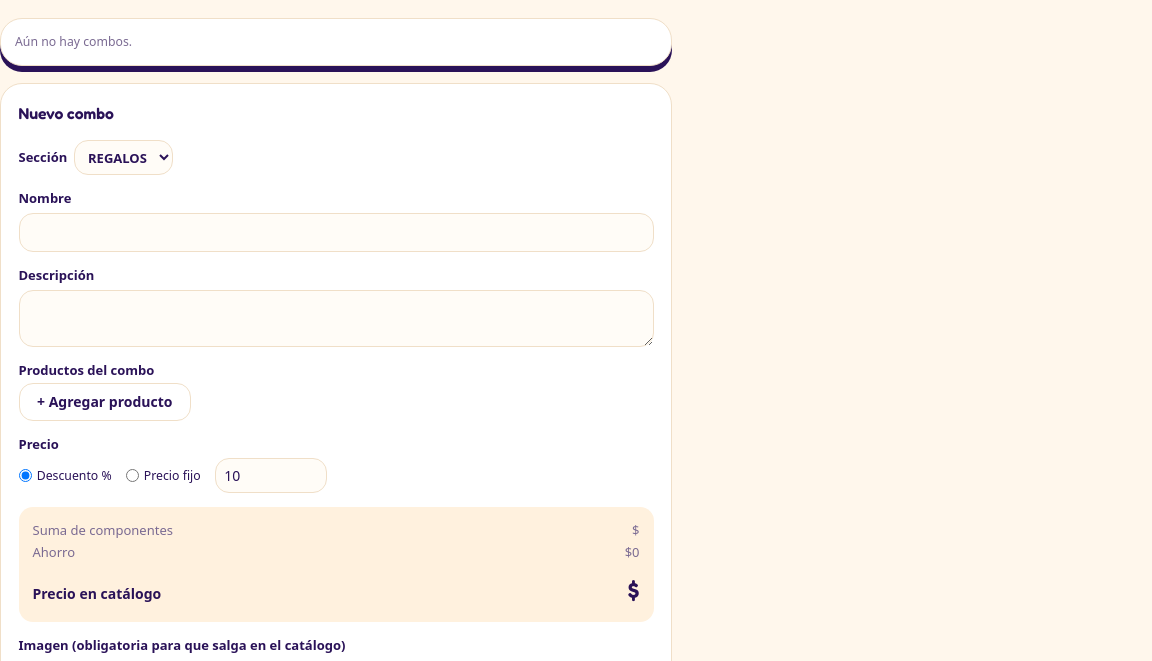
Scenario: Combos: aviso de componentes agotados › con varios agotados los nombra a todos, en plural
expect the heading "Nuevo combo" is shown: met, box [18,104,114,123]
Step 1. Click the button "+ Agregar producto" → (105, 402), box [18,383,191,421]
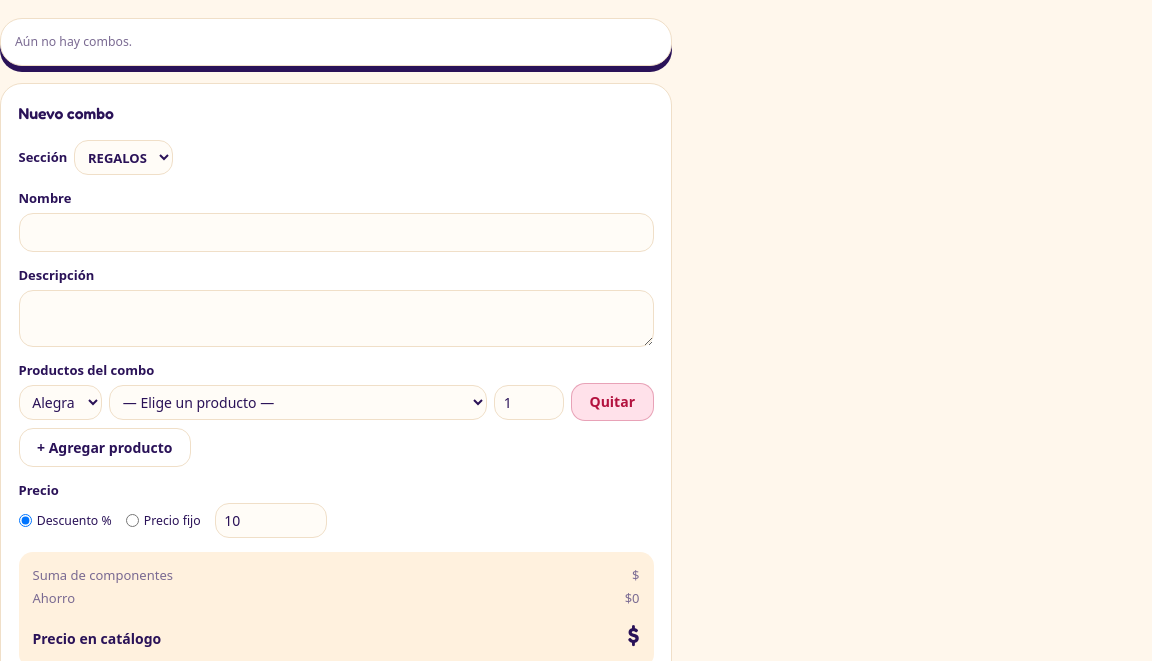
Step 2. Select "Champong ($12.000)" in the dropdown named "Producto" → (298, 402), box [109,385,487,420]
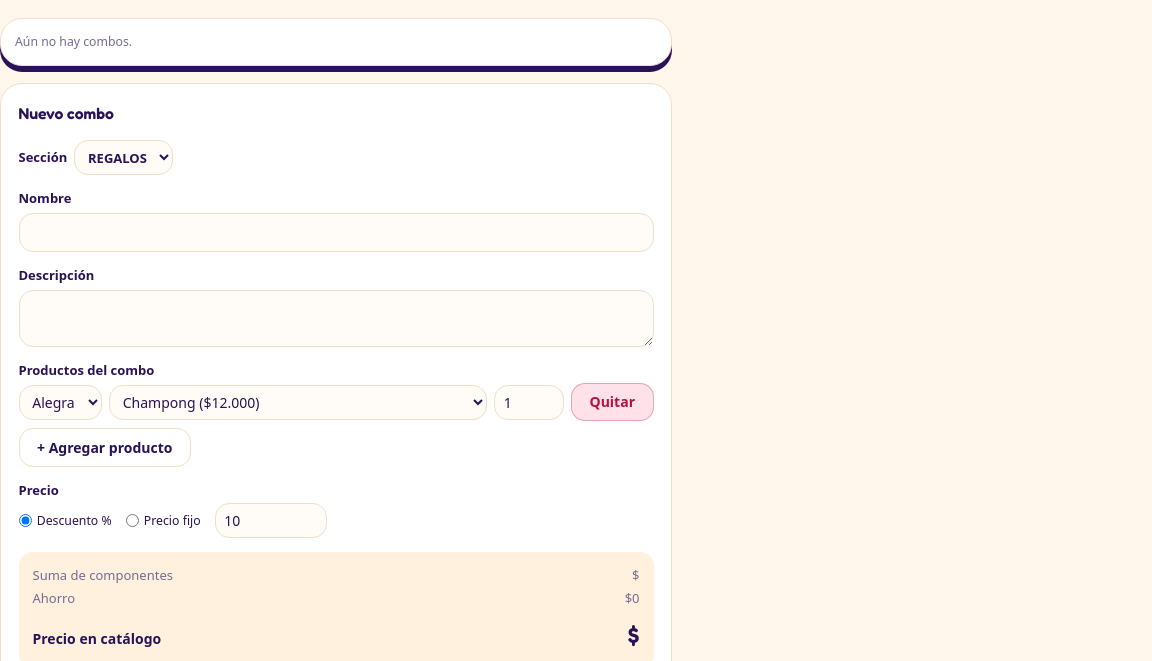
Step 3. Click the button "+ Agregar producto" → (105, 448), box [18,428,191,467]
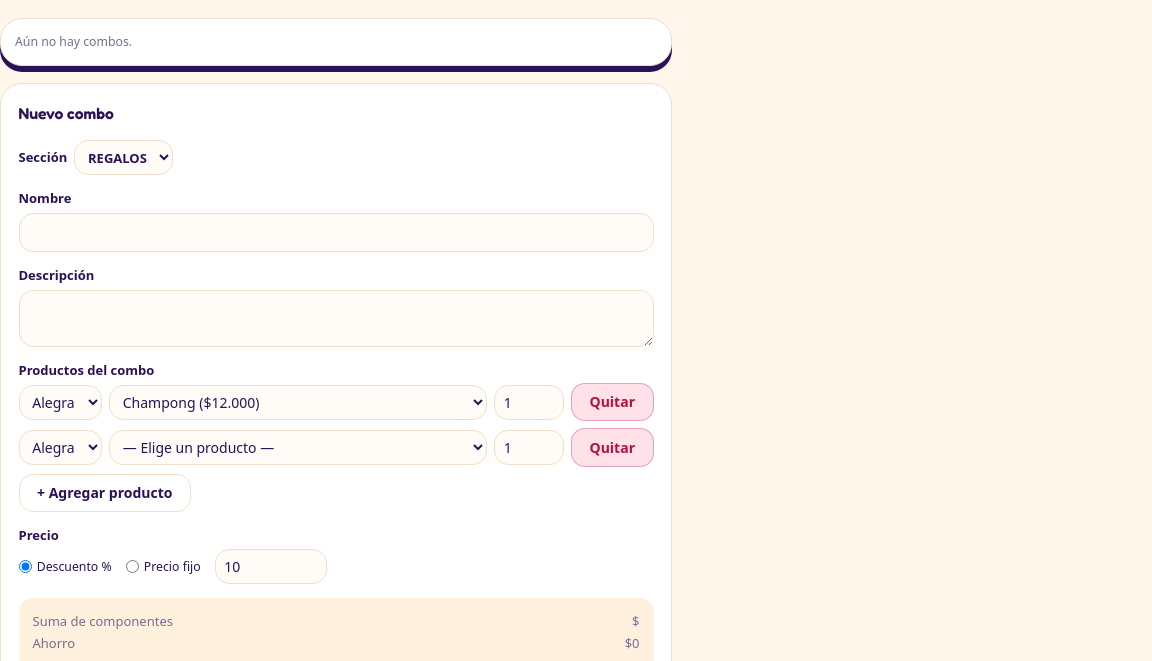
Step 4. Select "Buldak ($10.000)" in the 2nd dropdown named "Producto" → (298, 448), box [109,430,487,465]
(page scrolled)
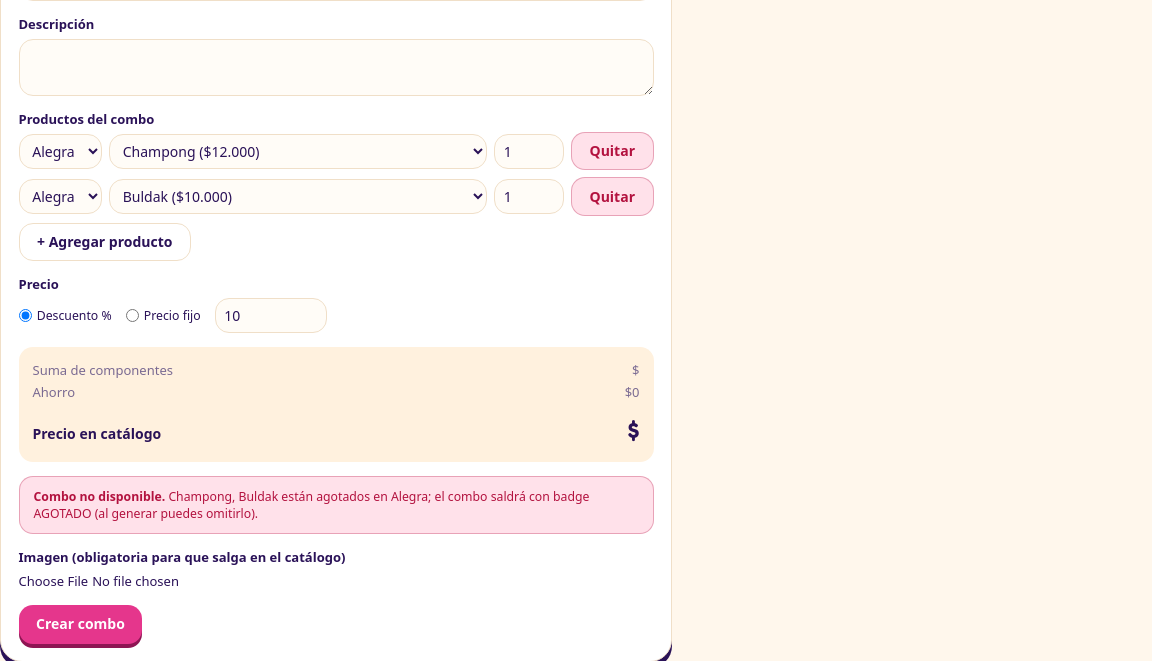
expect the message with test id "bundle-unavailable" shows "Champong, Buldak están agotados en Alegra": met, box [18,476,654,534]
